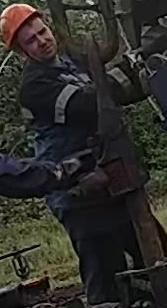helmet: (0, 3, 39, 51)
vest: (19, 58, 106, 206)
